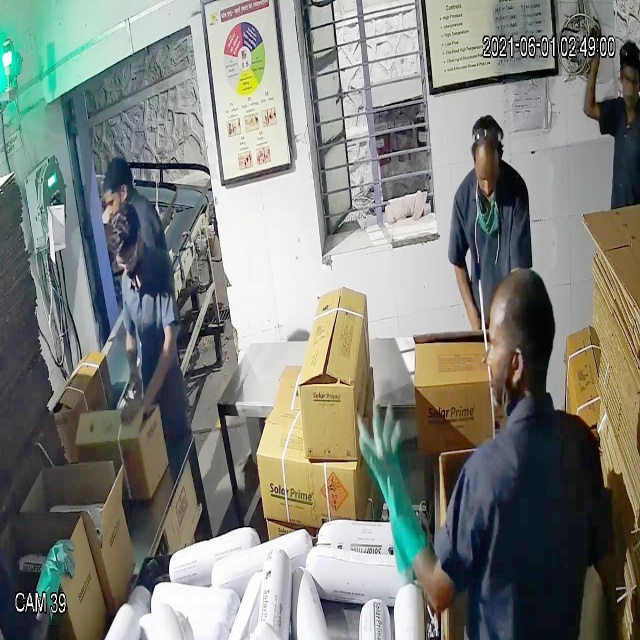Gafas: (114, 242, 142, 277)
Sin_gafas: (470, 158, 502, 189)
